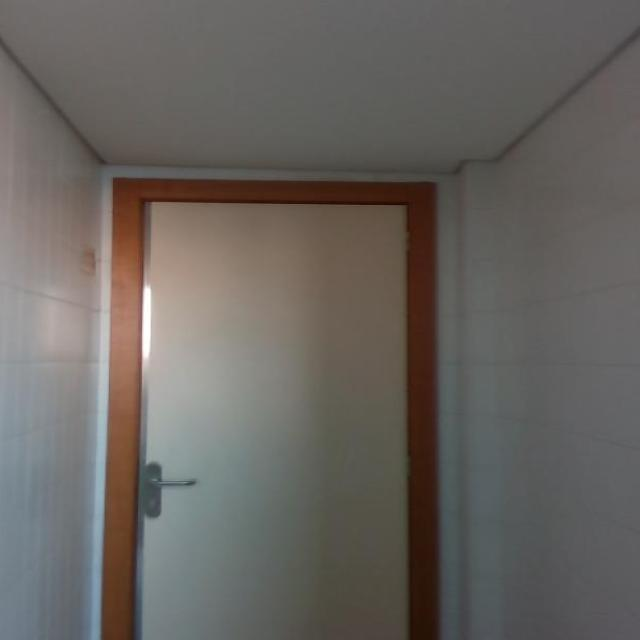door: (133, 194, 413, 639)
